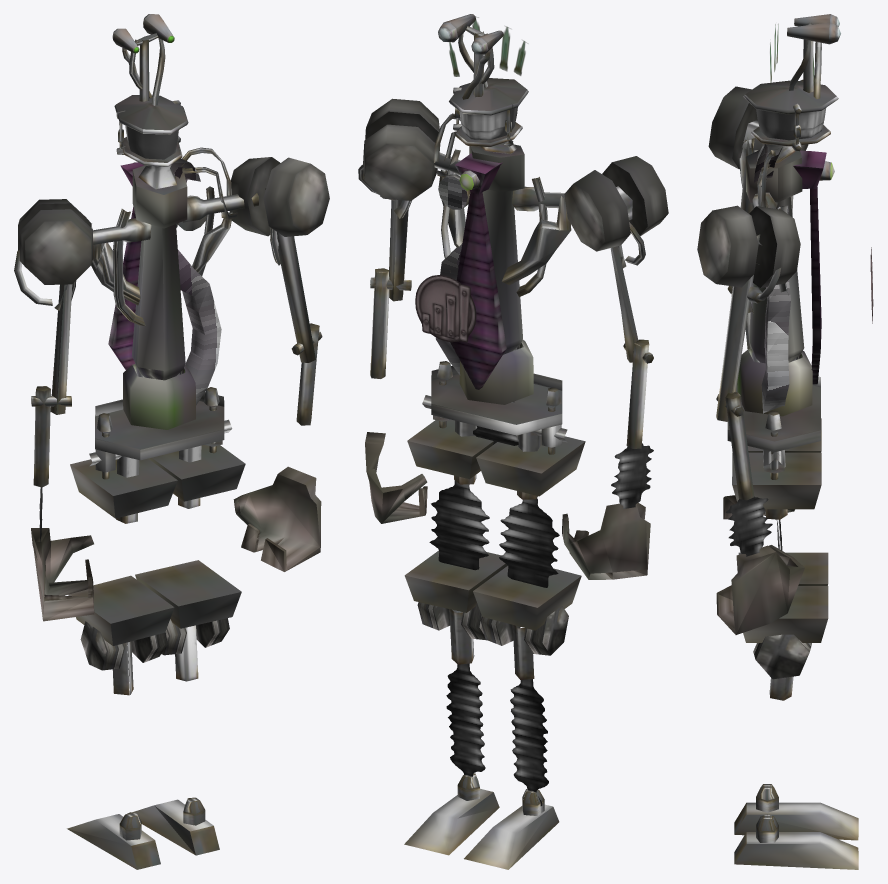
The model's file is robot_b.glb.
3 renders of one model, left to right at view 1: azimuth 30°, elevation 25°; view 2: azimuth 150°, elevation 25°; view 3: azimuth 270°, elevation 25°, orthographic. The views are drawn at different scales.
Visible parts, largest first — view 1: suitB, scale_jnt1_1, scale_jnt9_1, scale_jnt3_1, jnt1_2, tie, jnt2_2, jnt9_2; view 2: suitB, scale_jnt1_1, scale_jnt9_1, scale_jnt3_1, tie, pPlane98, pPlane109, SalesIcon, pPlane105, pPlane117, jnt1_2, jnt9_2 (+2 smaller); view 3: suitB, scale_jnt9_1, scale_jnt3_1, tie, pPlane92, jnt9_2, scale_jnt1_1, jnt2_2, jnt1_2.
Part boxes in pixels (x1,y1,x2,y2): suitB: (14, 14, 321, 869); scale_jnt1_1: (68, 456, 177, 645); scale_jnt9_1: (229, 157, 329, 362); scale_jnt3_1: (18, 199, 92, 284); jnt1_2: (82, 621, 167, 840); tie: (108, 162, 143, 369); jnt2_2: (175, 625, 205, 825); jnt9_2: (291, 323, 322, 425); suitB: (358, 14, 650, 869); scale_jnt1_1: (473, 432, 585, 630); scale_jnt9_1: (363, 98, 439, 301); scale_jnt3_1: (564, 156, 668, 251); tie: (450, 153, 506, 389); pPlane98: (499, 498, 559, 587); pPlane109: (429, 480, 489, 570); SalesIcon: (415, 275, 476, 342); pPlane105: (510, 679, 548, 805); pPlane117: (446, 663, 485, 776); jnt1_2: (483, 606, 568, 815); jnt9_2: (370, 268, 411, 378); suitB: (716, 14, 858, 869); scale_jnt9_1: (697, 205, 800, 421); scale_jnt3_1: (708, 86, 808, 169); tie: (793, 150, 826, 384); pPlane92: (726, 496, 772, 556); jnt9_2: (716, 392, 754, 500); scale_jnt1_1: (732, 418, 828, 585); jnt2_2: (756, 676, 793, 842); jnt1_2: (756, 784, 778, 812).
Size of the model in its own units: 2.5 by 6.44 by 1.24.
Materials: 10 (10 with a texture image).
